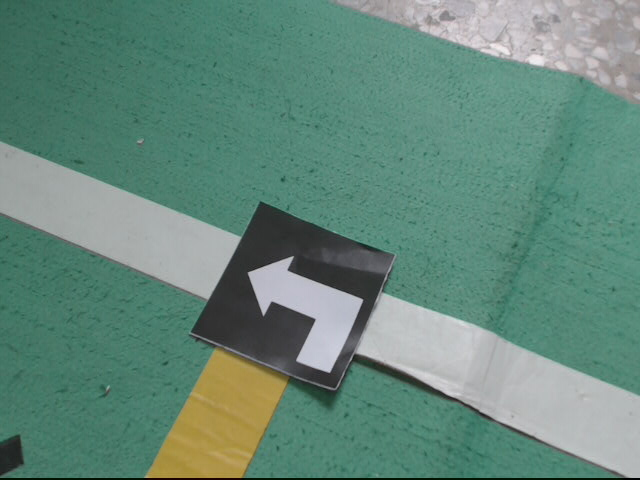left: (191, 201, 397, 392)
